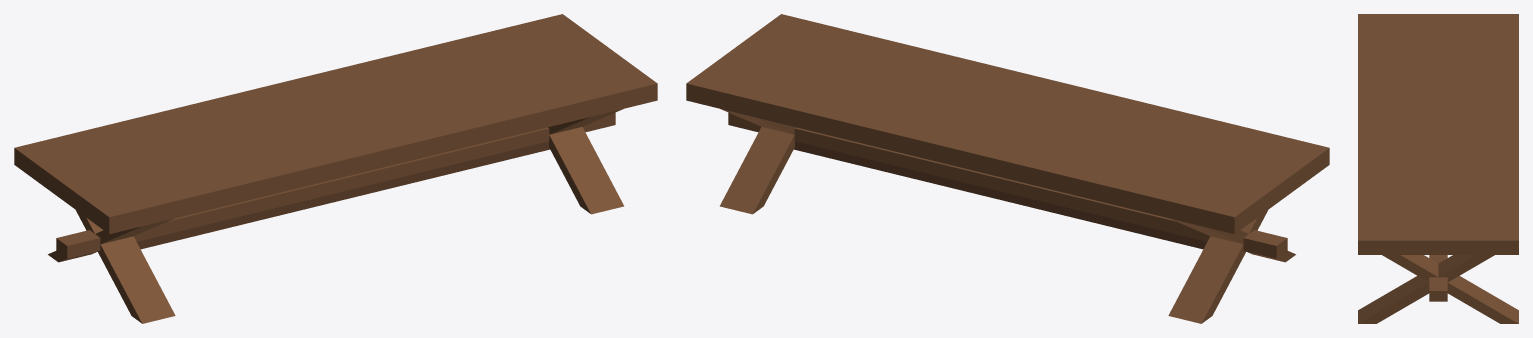
Rendered from inquiry-table.glb.
3 renders of one model, left to right at view 1: azimuth 30°, elevation 25°; view 2: azimuth 150°, elevation 25°; view 3: azimuth 270°, elevation 25°, orthographic. The views are drawn at different scales.
Visible parts, largest first — view 1: structure; view 2: structure; view 3: structure.
Boxes of the visible parts, x1,y1,x2,y2 form: structure: (14,14,657,323); structure: (686,14,1329,323); structure: (1358,14,1518,323).
Size of the model in its own units: 4 by 0.8 by 1.2.
